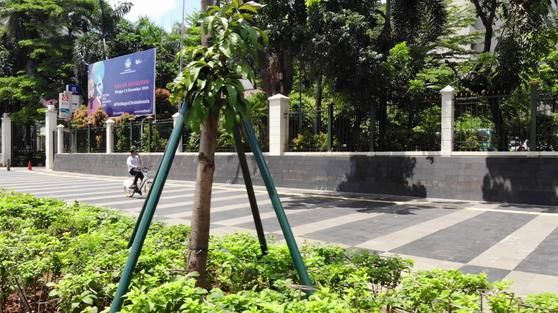bike: (120, 166, 164, 203)
